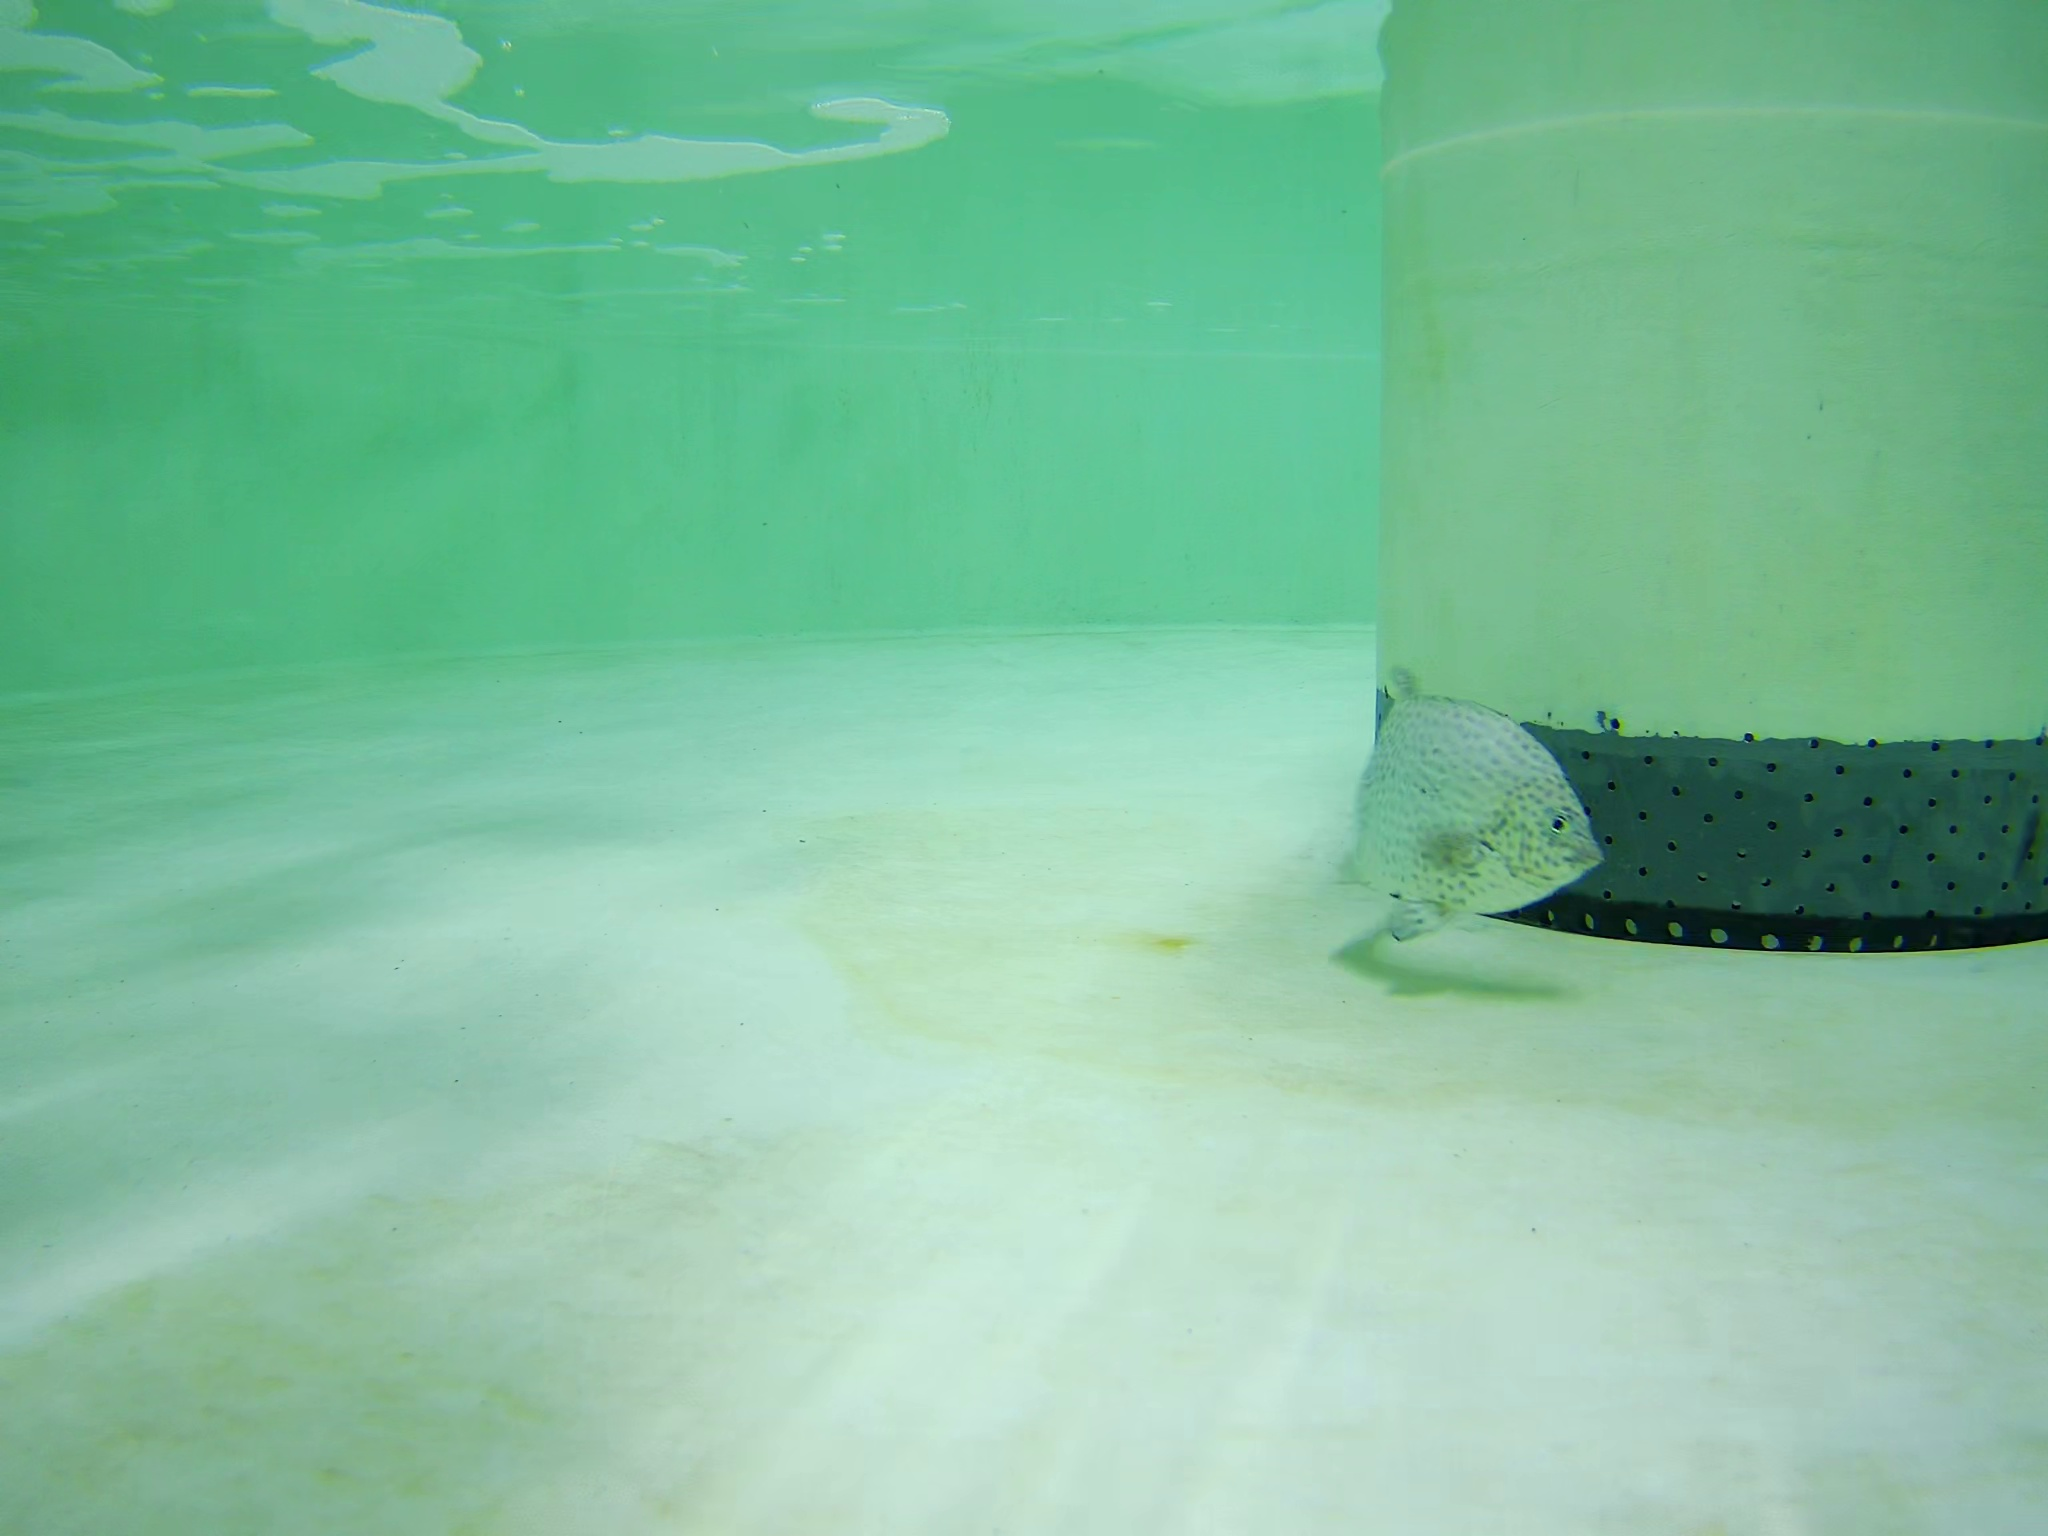fish: (1332, 666, 1601, 947)
